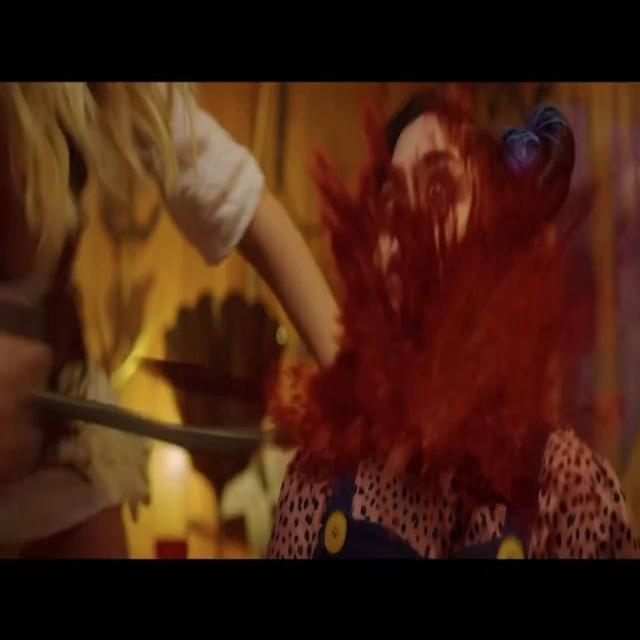flood: (266, 135, 571, 489)
